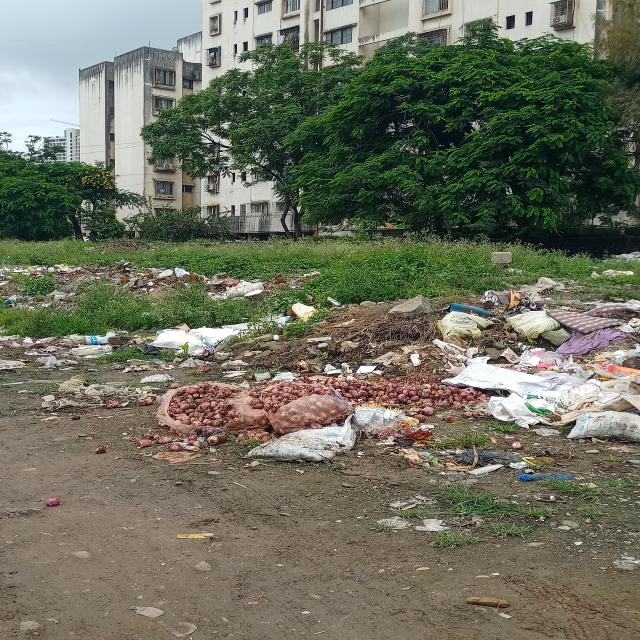garbage: (164, 288, 640, 465), (2, 330, 158, 414), (3, 264, 229, 294)
